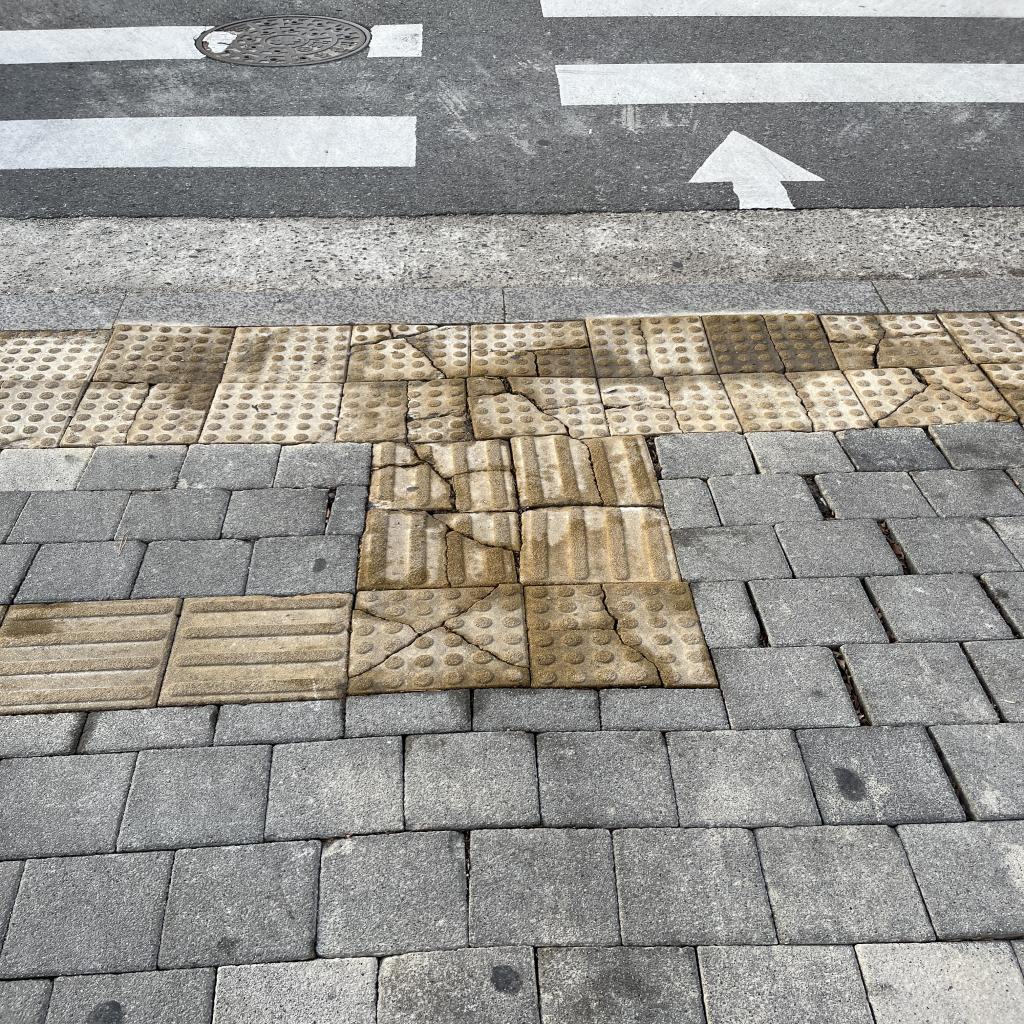Stop block broken: (346, 584, 527, 692), (525, 584, 714, 685), (469, 376, 607, 438), (347, 324, 468, 381)
Straight block broken: (357, 509, 516, 590), (512, 434, 661, 508), (370, 440, 516, 509)
Straight block normal: (153, 591, 357, 704), (522, 509, 680, 584)
